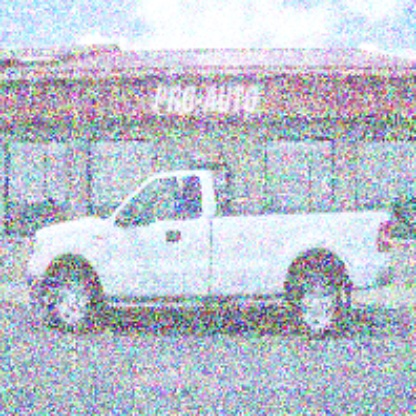Vehicle: (30, 168, 398, 342)
